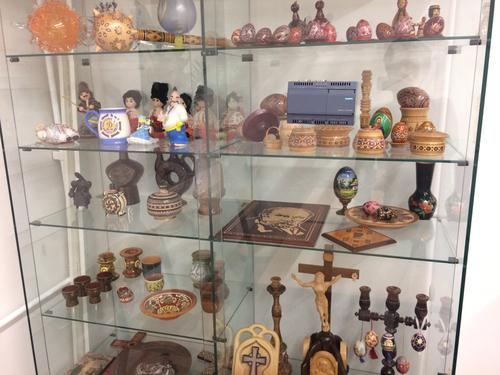iot2000: (286, 78, 357, 126)
